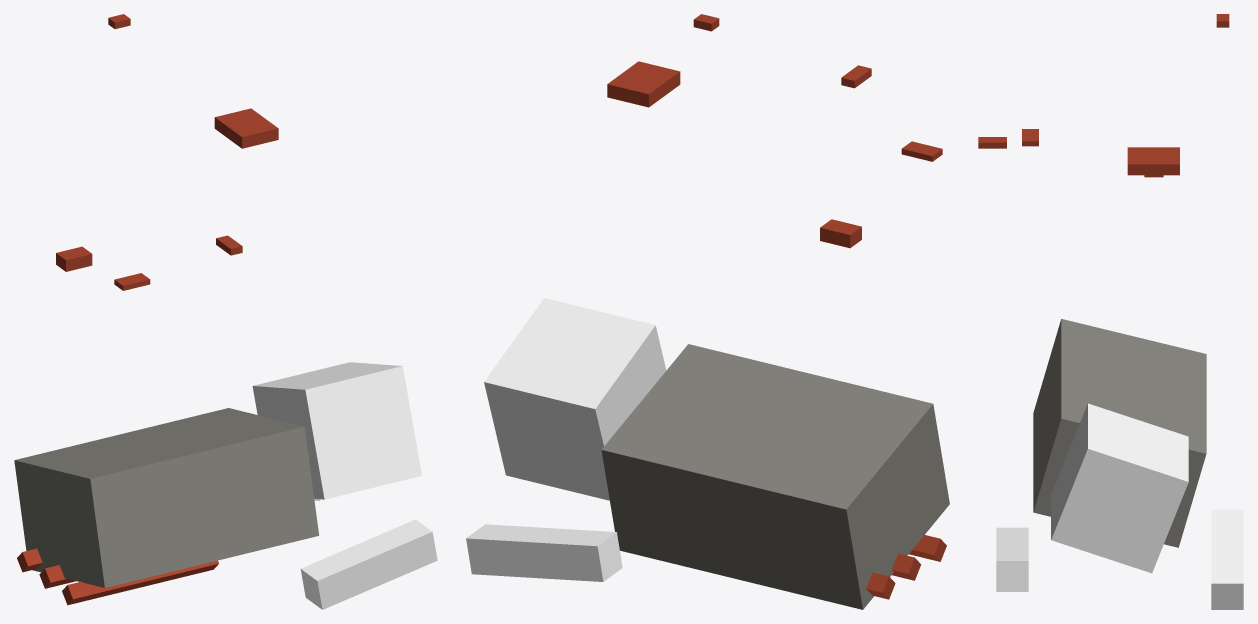
The model's file is zombie_crawler.glb.
3 views of the same model, side by side, from view 1: azimuth 30°, elevation 25°; view 2: azimuth 150°, elevation 25°; view 3: azimuth 270°, elevation 25° (orthographic). The views are drawn at different scales.
Parts seen in each view (by area): view 1: zombie_crawler; view 2: zombie_crawler; view 3: zombie_crawler.
Part boxes in pixels (bbox=[...]): zombie_crawler: bbox=[14, 14, 437, 609]; zombie_crawler: bbox=[466, 14, 949, 609]; zombie_crawler: bbox=[978, 14, 1243, 609].
Size of the model in its own units: 0.42 by 0.6185 by 0.2961.
